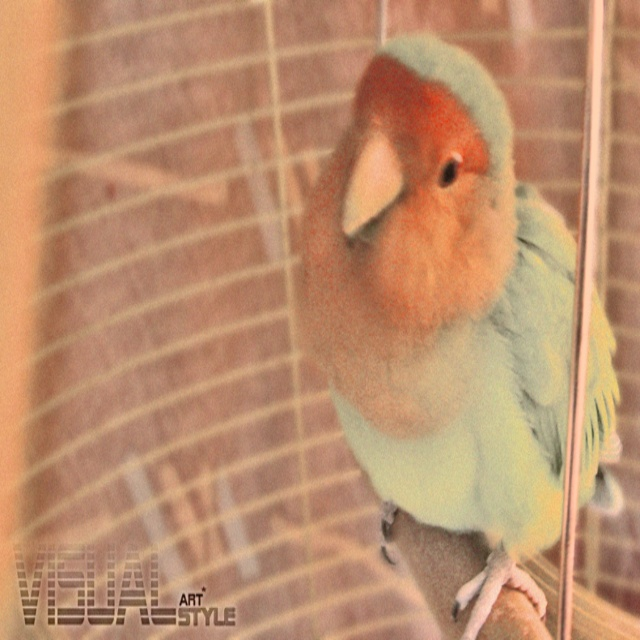Parrot: (300, 23, 623, 639)
